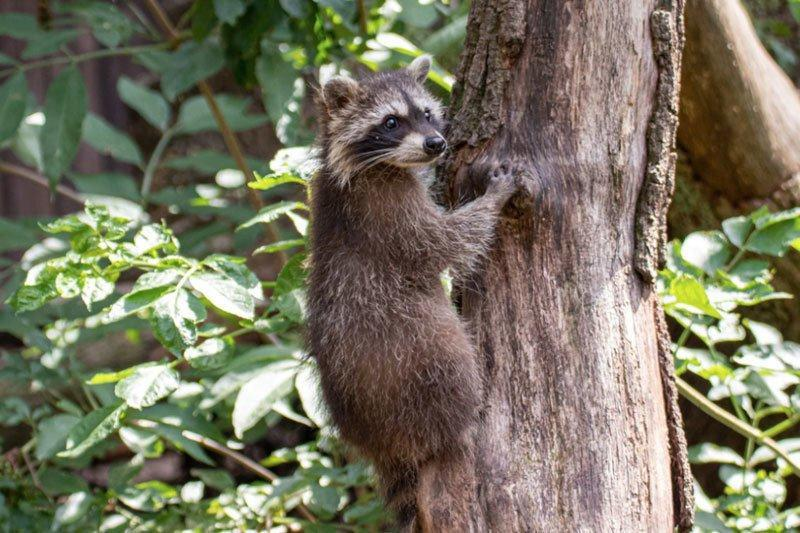raccoon: (305, 51, 519, 525)
